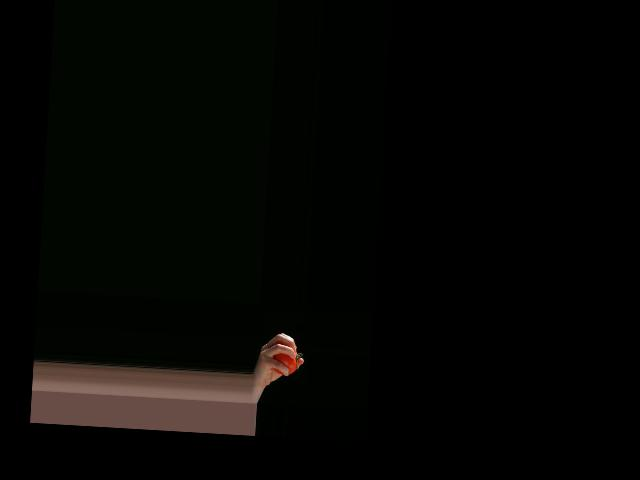tomato: (271, 349, 297, 375)
